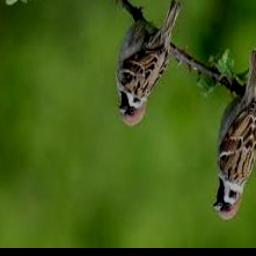Sparrow: (117, 0, 181, 127), (214, 48, 256, 221)
